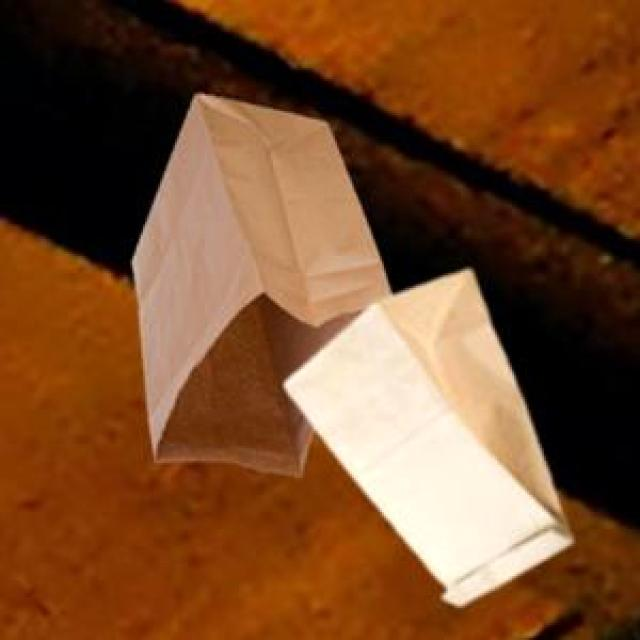Paper_Bag: (128, 90, 390, 472), (282, 268, 568, 602)
